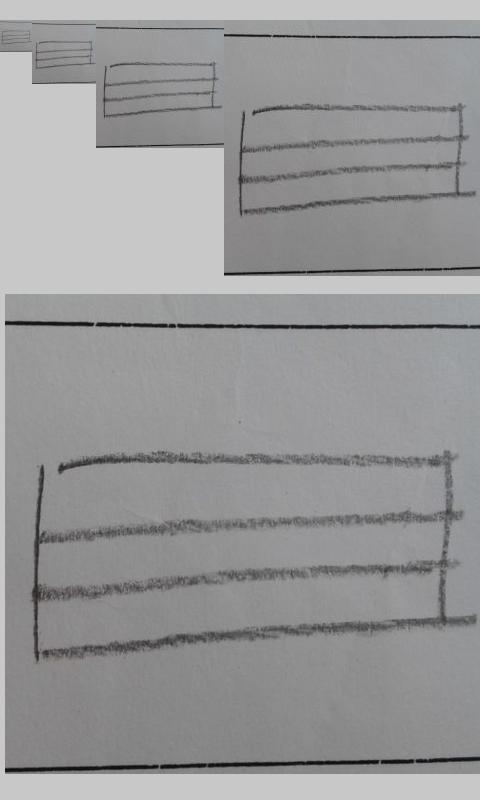list_view: (31, 451, 456, 664), (238, 101, 465, 215), (102, 60, 218, 119), (35, 40, 93, 69), (1, 29, 31, 45)
